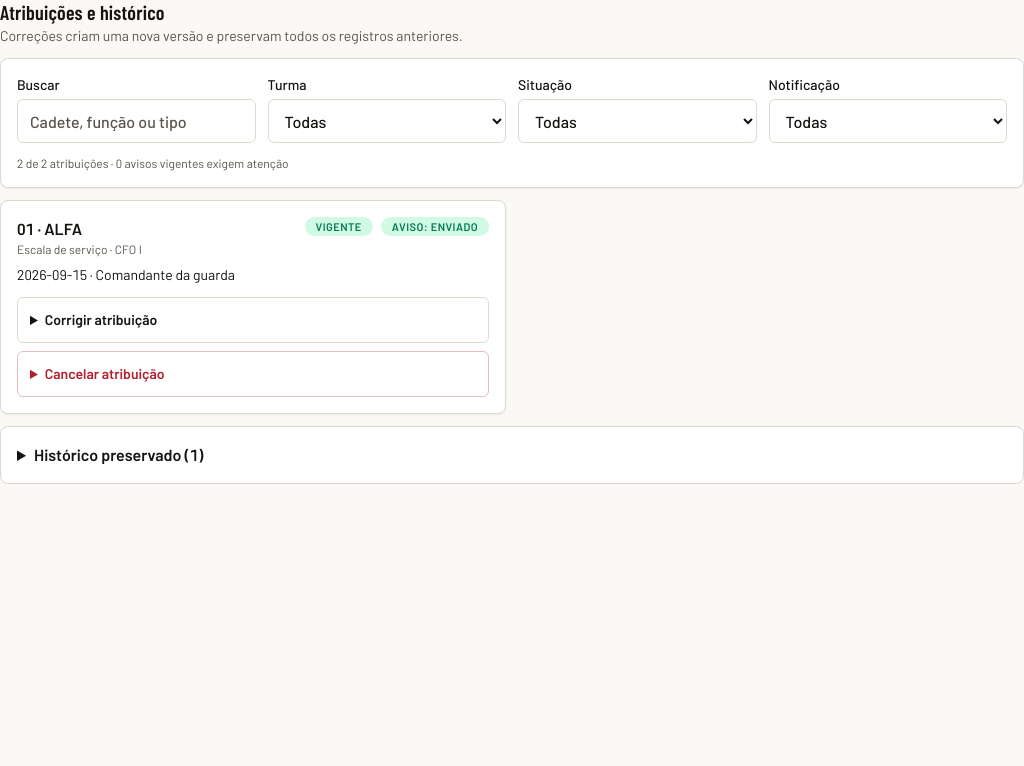
Test: Gestão de atribuições de escala › mostra os campos de correção, exige justificativa e preserva o histórico
Click the heading "Corrigir atribuição": click(101, 320) [45, 311, 157, 328]
(page scrolled)
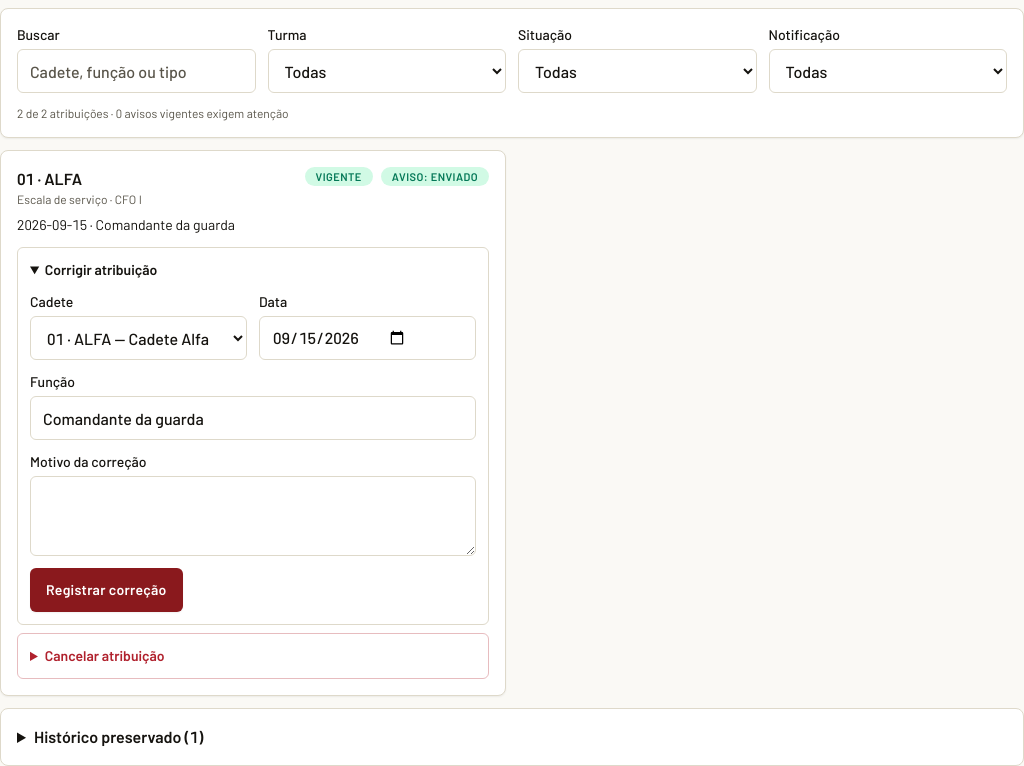
Expected: the dropdown labelled "Cadete" shows "01 · ALFA — Cadete Alfa", [30, 316, 247, 360]
Expected: the date field labelled "Data" holds "2026-09-15", [259, 316, 476, 360]
Expected: the field labelled "Função" holds "Comandante da guarda", [30, 396, 476, 440]
Click the heading "Histórico preservado (1)": click(119, 736) [34, 727, 203, 746]
(page scrolled)
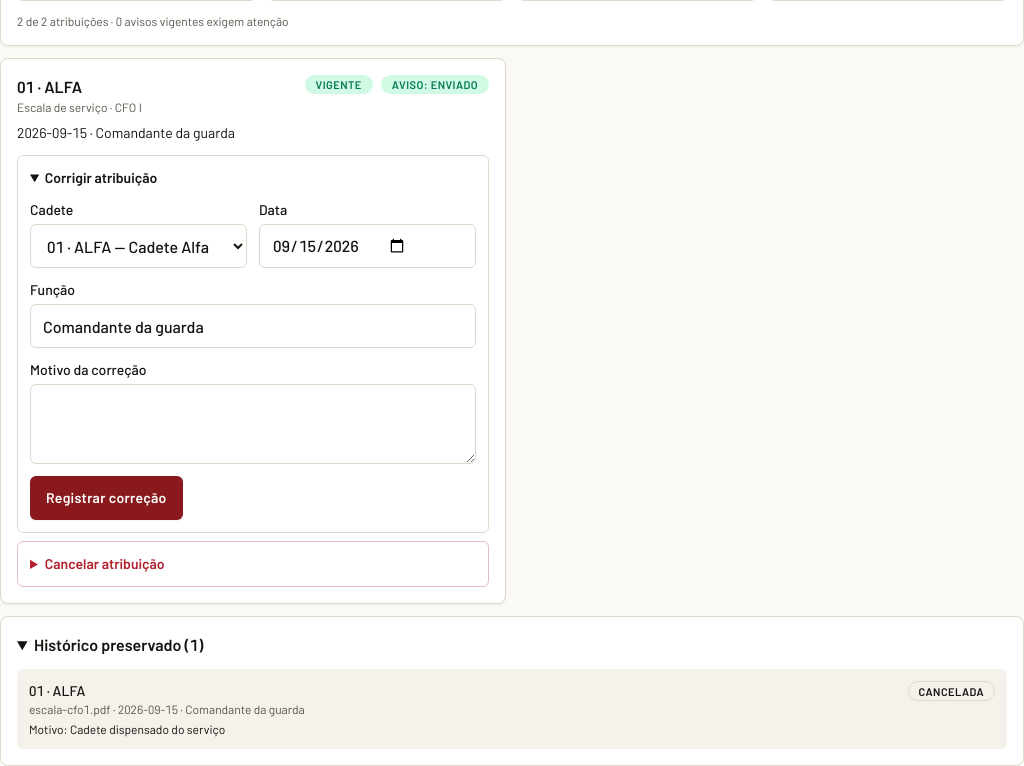
Expected: the text "Motivo: Cadete dispensado do serviço" is shown, [29, 722, 225, 736]
